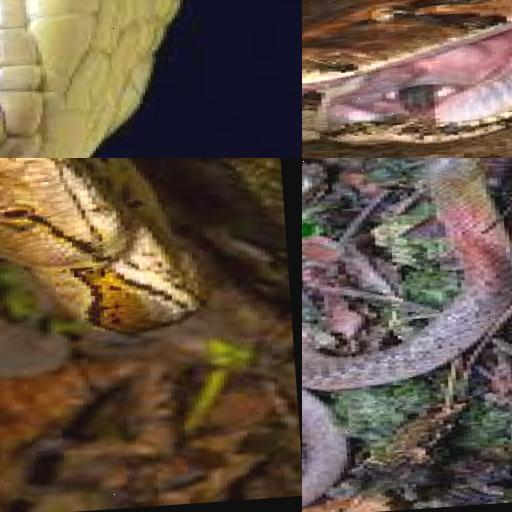snake: (302, 158, 512, 512), (0, 158, 204, 512), (0, 0, 302, 158), (302, 0, 512, 158)
